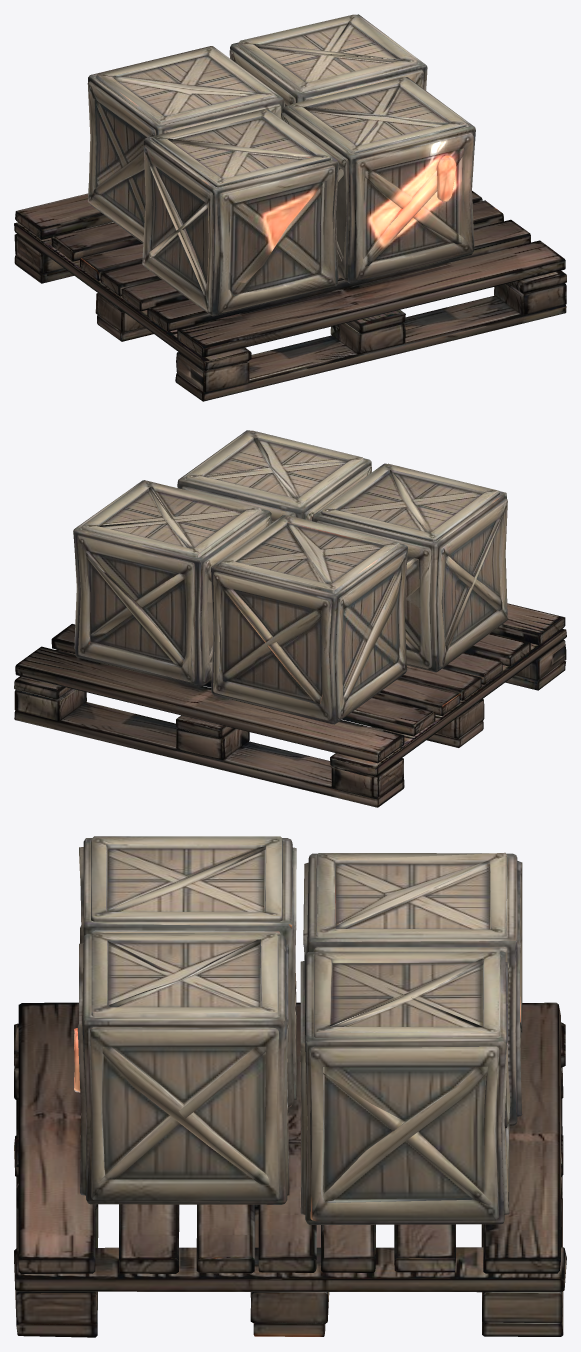
The model's file is bulk_discount.glb.
3 views of the same model, one above another, from view 1: azimuth 30°, elevation 25°; view 2: azimuth 150°, elevation 25°; view 3: azimuth 270°, elevation 25° (orthographic). The views are drawn at different scales.
Bounding box in the file's own units: 1 × 0.501 × 0.916.
1 material, 1 textured.
